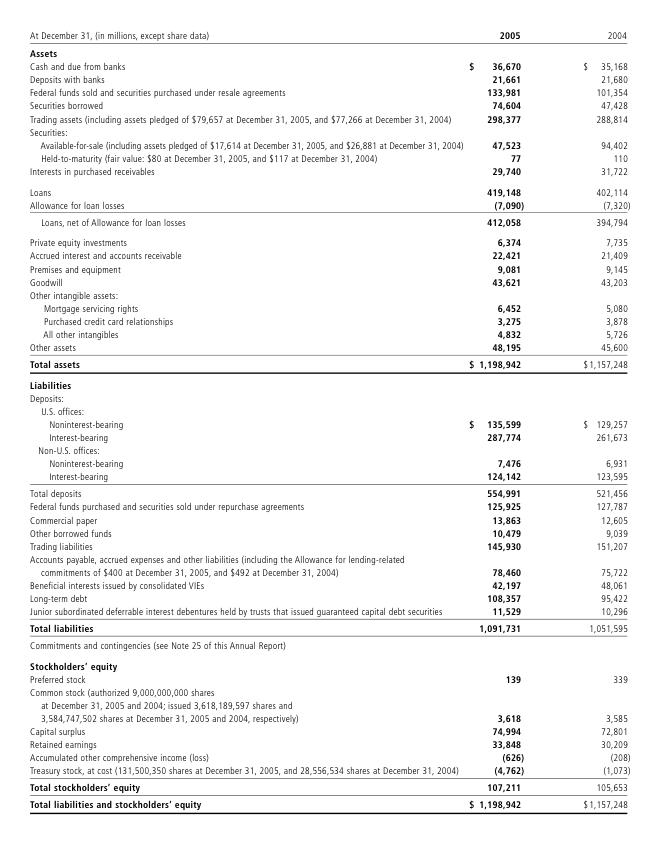table: (29, 28, 629, 809)
table column: (29, 28, 465, 809), (465, 28, 552, 809), (552, 28, 629, 809)
table column header: (29, 28, 629, 43)
table projected row header: (29, 636, 629, 655), (29, 374, 629, 391), (29, 655, 629, 672), (29, 43, 629, 59), (29, 124, 629, 137), (29, 391, 629, 404), (29, 404, 629, 417), (29, 443, 629, 456), (29, 288, 629, 300)
table row: (29, 685, 629, 724), (29, 552, 629, 578), (29, 212, 629, 231), (29, 355, 629, 374), (29, 636, 629, 655), (29, 180, 629, 197), (29, 231, 629, 248), (29, 374, 629, 391), (29, 619, 629, 636), (29, 655, 629, 672), (29, 778, 629, 795), (29, 43, 629, 59), (29, 164, 629, 180), (29, 28, 629, 43), (29, 197, 629, 212), (29, 340, 629, 355), (29, 469, 629, 484), (29, 484, 629, 499), (29, 604, 629, 619), (29, 763, 629, 778), (29, 150, 629, 164), (29, 274, 629, 288), (29, 300, 629, 314), (29, 538, 629, 552), (29, 795, 629, 809), (29, 59, 629, 72), (29, 72, 629, 85), (29, 85, 629, 98), (29, 98, 629, 111), (29, 111, 629, 124), (29, 124, 629, 137), (29, 137, 629, 150), (29, 248, 629, 261), (29, 261, 629, 274), (29, 314, 629, 327), (29, 327, 629, 340), (29, 391, 629, 404), (29, 404, 629, 417), (29, 417, 629, 430), (29, 430, 629, 443), (29, 443, 629, 456), (29, 456, 629, 469), (29, 499, 629, 512), (29, 512, 629, 525), (29, 525, 629, 538), (29, 578, 629, 591), (29, 591, 629, 604), (29, 672, 629, 685), (29, 724, 629, 737), (29, 737, 629, 750), (29, 750, 629, 763), (29, 288, 629, 300)
